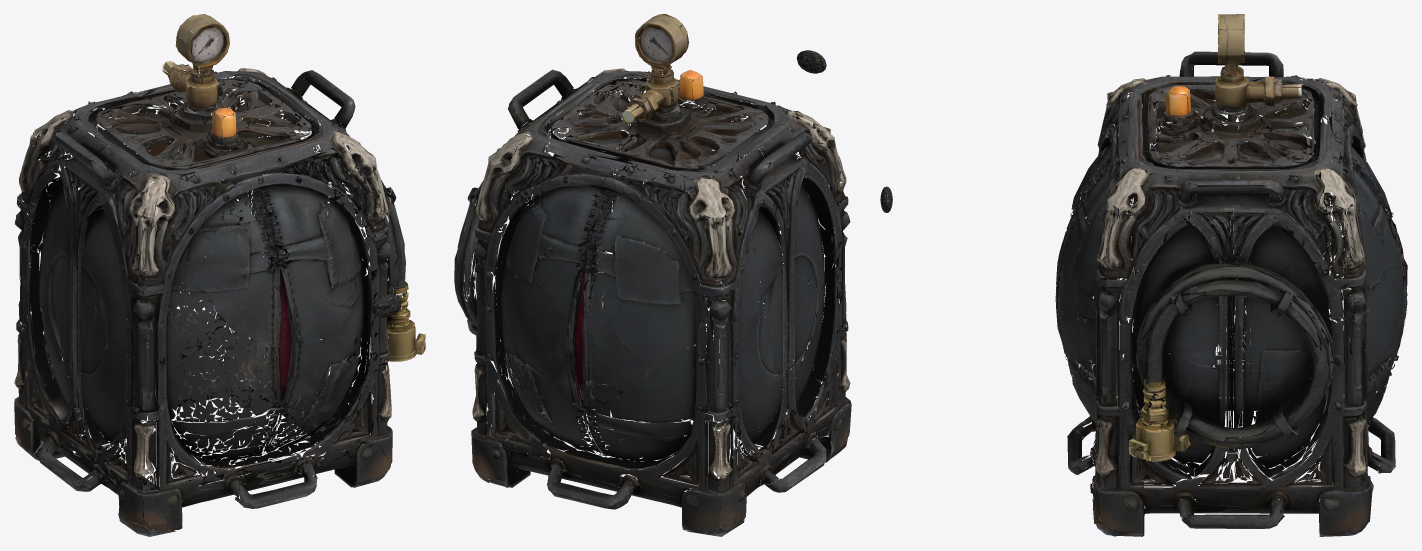
The model's file is traversal_door_pressure_equalizer_bladder.glb.
3 renders of one model, left to right at view 1: azimuth 30°, elevation 25°; view 2: azimuth 150°, elevation 25°; view 3: azimuth 270°, elevation 25°, orthographic. The views are drawn at different scales.
Parts seen in each view (by area): view 1: node_0, HB_PULSE_00; view 2: node_0, HB_PULSE_00; view 3: node_0.
Part boxes in pixels (bbox=[...]): node_0: bbox=[14, 14, 425, 536]; HB_PULSE_00: bbox=[372, 294, 401, 317]; node_0: bbox=[454, 14, 851, 536]; HB_PULSE_00: bbox=[796, 50, 826, 73]; node_0: bbox=[1055, 14, 1407, 536].
Size of the model in its own units: 0.7208 by 0.9413 by 0.9746.
1 material, 1 textured.
